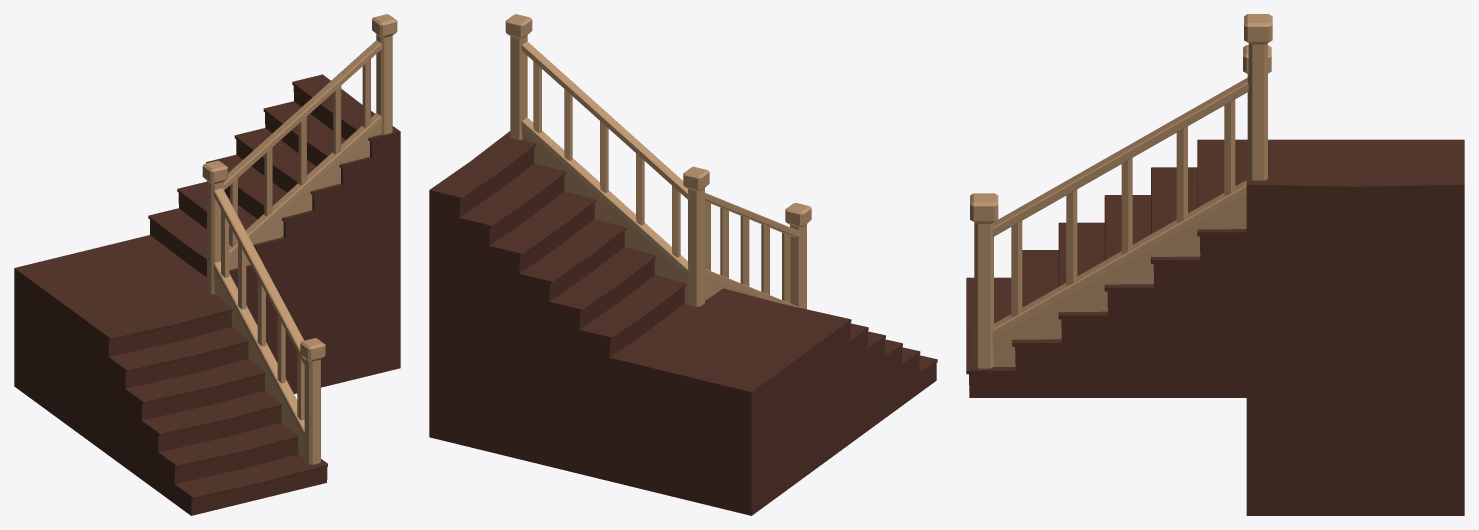
File: corner-staircase-b.glb
3 renders of one model, left to right at view 1: azimuth 30°, elevation 25°; view 2: azimuth 150°, elevation 25°; view 3: azimuth 270°, elevation 25°, orthographic. The views are drawn at different scales.
Parts seen in each view (by area): view 1: Corner Staircase B (×2); view 2: Corner Staircase B (×2); view 3: Corner Staircase B (×2).
Boxes of the visible parts, <box> form: Corner Staircase B (×2): <box>14,14,400,515</box>; Corner Staircase B (×2): <box>429,14,937,515</box>; Corner Staircase B (×2): <box>966,14,1464,515</box>.
Bounding box in the file's own units: 3 × 3.25 × 3.
